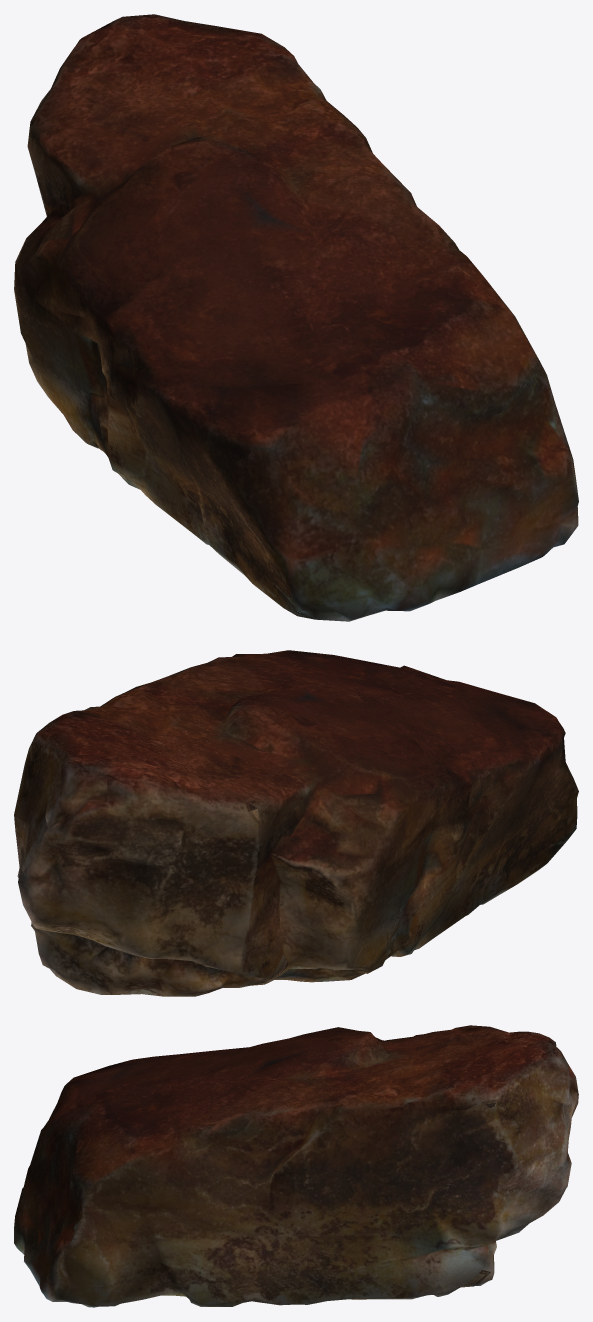
Rendered from loose-rock-0-mid.glb.
3 renders of one model, top to bottom at view 1: azimuth 30°, elevation 25°; view 2: azimuth 150°, elevation 25°; view 3: azimuth 270°, elevation 25°, orthographic. The views are drawn at different scales.
Parts seen in each view (by area): view 1: rock_07; view 2: rock_07; view 3: rock_07.
Part boxes in pixels (x1,y1,x2,y2): rock_07: (14,14,578,621); rock_07: (14,650,578,996); rock_07: (14,1025,578,1307).
Size of the model in its own units: 0.5239 by 0.4487 by 0.9987.
1 material, 1 textured.
